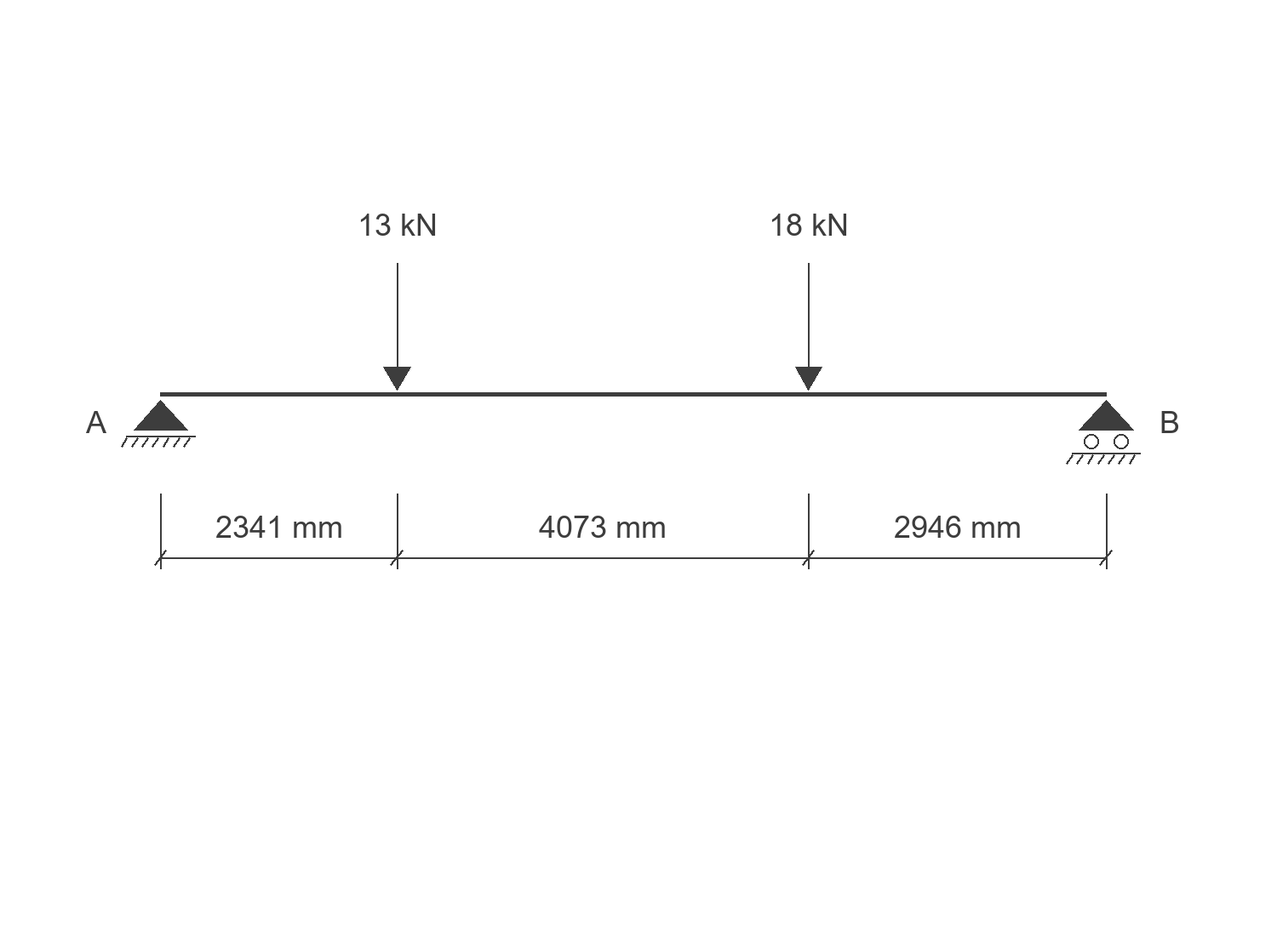pin_support: (121, 400, 196, 448)
point_load: (383, 263, 411, 391), (795, 263, 822, 391)
roller_support: (1066, 400, 1141, 465)
